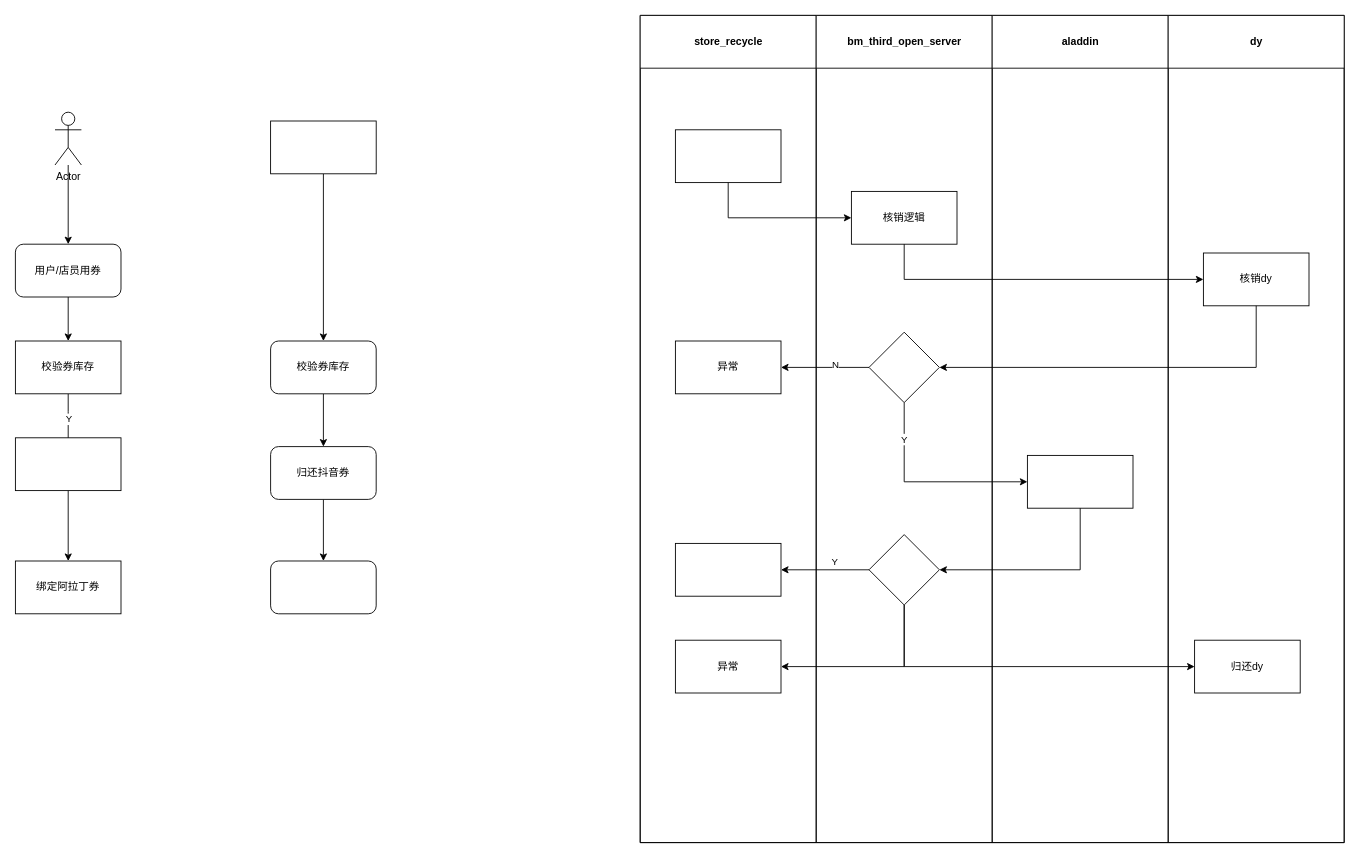
This 1360x858 diagram has some shape labels left out. The shapes that lost their labels are listed below. From the top down, each one's centre as x and y in pixels, then its label:
At point 323,147: "系统归还抖音券".
At point 728,156: "扫码".
At point 903,367: "核销成功？".
At point 68,464: "计算并写入价格体系".
At point 1080,481: "发券".
At point 323,587: "让用户的该阿拉丁券失效/清空/库存为0".
At point 728,569: "发券成功".
At point 903,569: "发券成功？".
